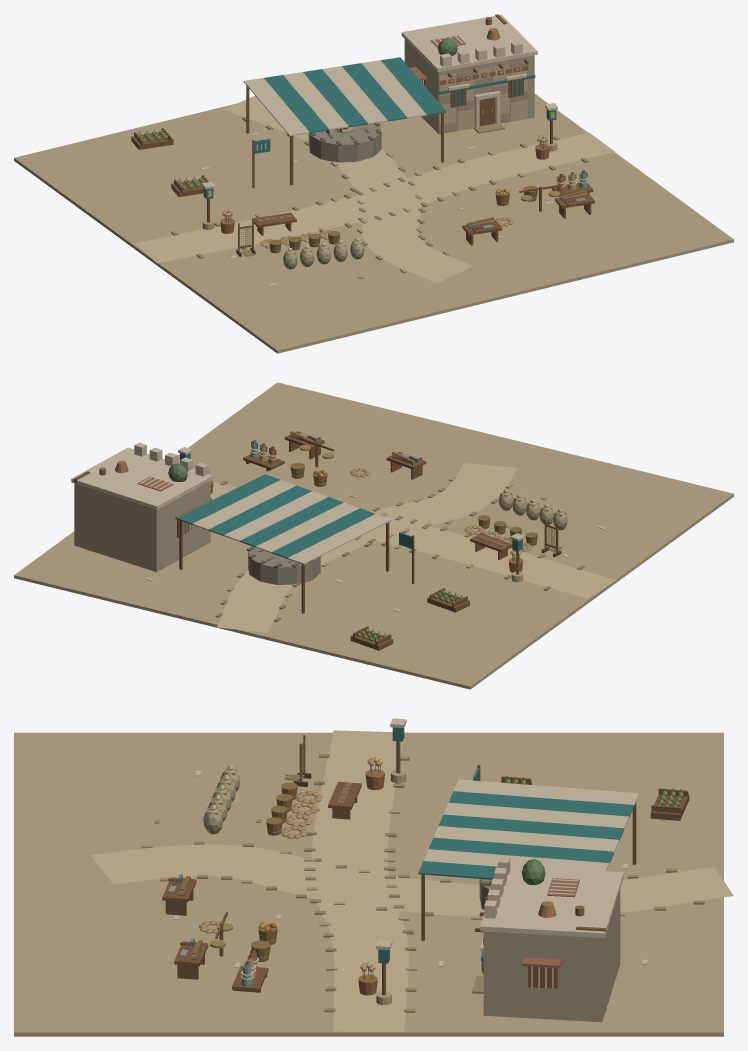
Rendered from city-mill.glb.
3 renders of one model, top to bottom at view 1: azimuth 30°, elevation 25°; view 2: azimuth 150°, elevation 25°; view 3: azimuth 270°, elevation 25°, orthographic. The views are drawn at different scales.
Visible parts, largest first — view 1: city-mill; view 2: city-mill; view 3: city-mill.
Boxes of the visible parts, bbox=[...] form: city-mill: bbox=[14, 14, 733, 353]; city-mill: bbox=[14, 382, 733, 689]; city-mill: bbox=[14, 718, 733, 1036].
Bounding box in the file's own units: 32.12 × 5.72 × 32.44.
